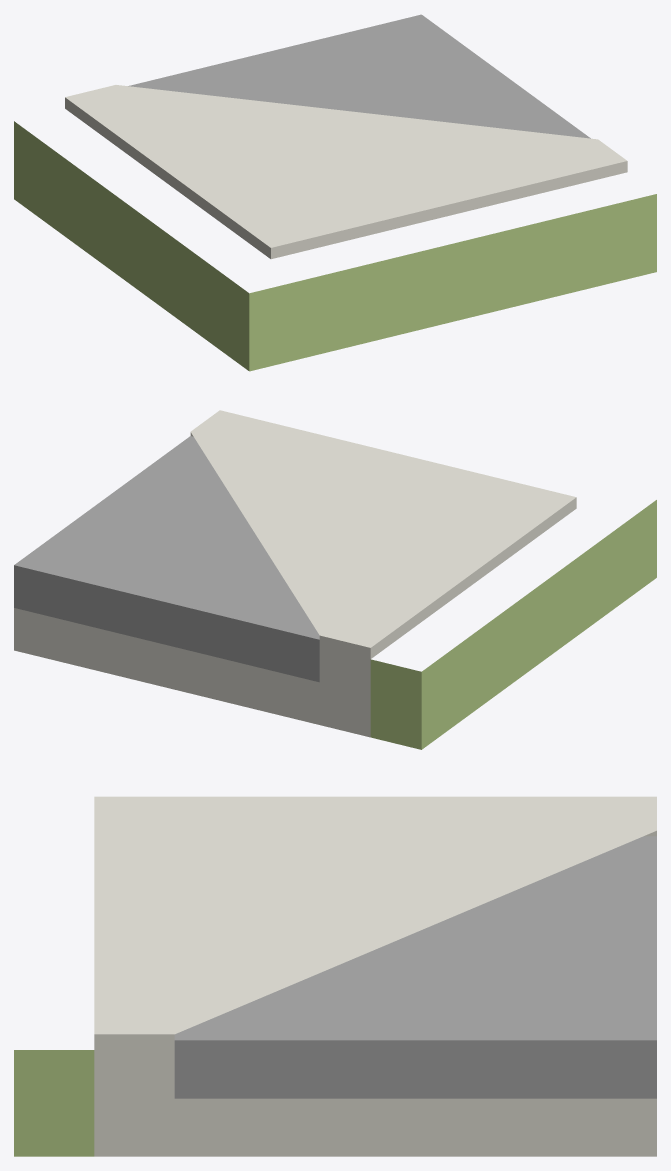
File: roadTile_035.gltf
3 views of the same model, one above another, from view 1: azimuth 30°, elevation 25°; view 2: azimuth 150°, elevation 25°; view 3: azimuth 270°, elevation 25° (orthographic). The views are drawn at different scales.
Parts seen in each view (by area): view 1: Mesh1 Group1 Model; view 2: Mesh1 Group1 Model; view 3: Mesh1 Group1 Model.
Boxes of the visible parts, <box> form: Mesh1 Group1 Model: <box>14,14,656,371</box>; Mesh1 Group1 Model: <box>14,410,656,749</box>; Mesh1 Group1 Model: <box>14,796,656,1156</box>.
Size of the model in its own units: 3 by 0.63 by 3.
